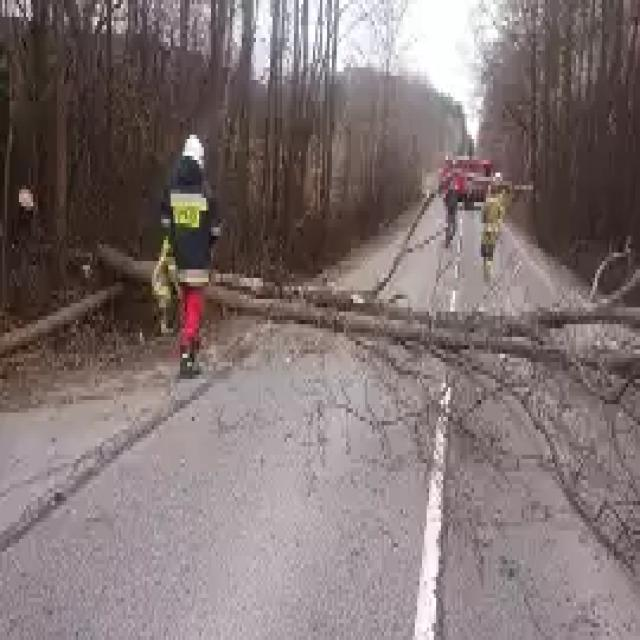fallen_tree: (216, 261, 640, 384)
